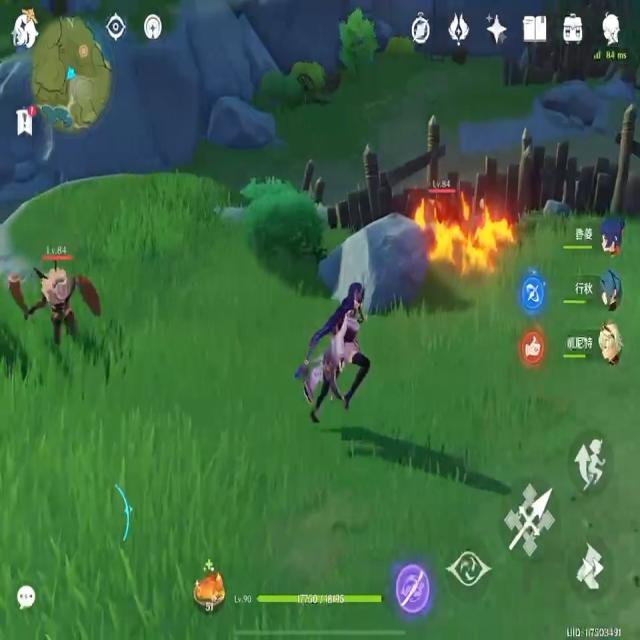genshin-hilichurls: (4, 255, 104, 366), (435, 174, 466, 255)
